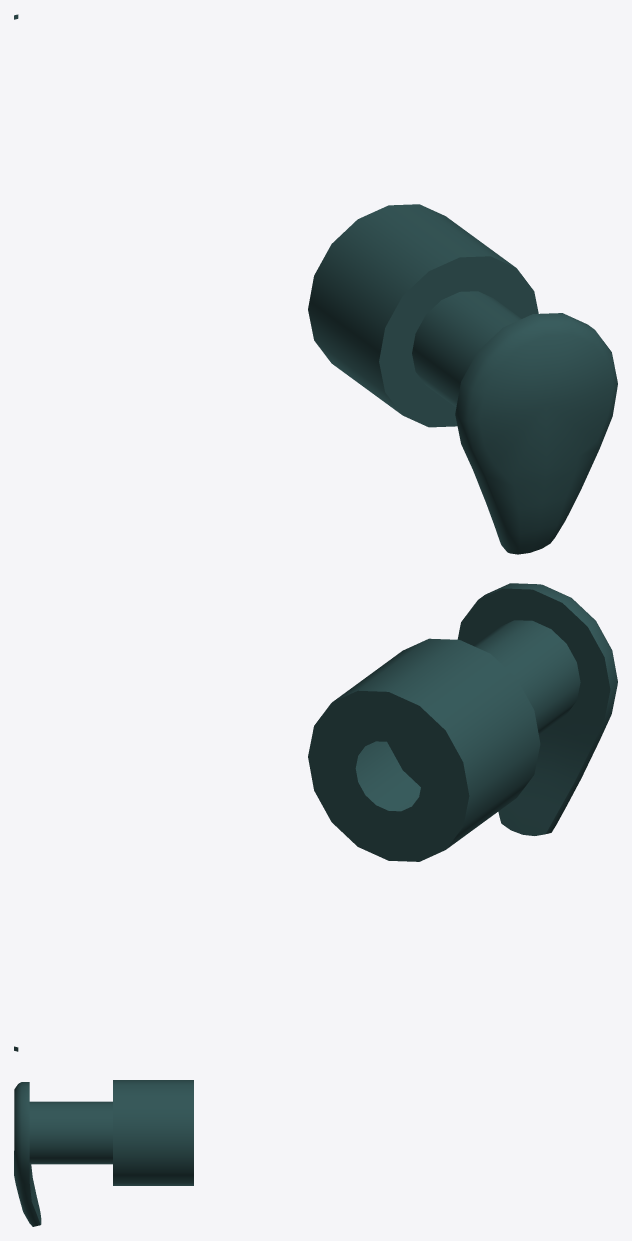
The model's file is MeshSoapBottle_22_0_GeomSubset_1.obj.
3 views of the same model, one above another, from view 1: azimuth 30°, elevation 25°; view 2: azimuth 150°, elevation 25°; view 3: azimuth 270°, elevation 25° (orthographic). The views are drawn at different scales.
Parts seen in each view (by area): view 1: MeshSoapBottle_22_0_GeomSubset_1; view 2: MeshSoapBottle_22_0_GeomSubset_1; view 3: MeshSoapBottle_22_0_GeomSubset_1.
Boxes of the visible parts, x1,y1,x2,y2 form: MeshSoapBottle_22_0_GeomSubset_1: (14,14,617,554); MeshSoapBottle_22_0_GeomSubset_1: (14,583,617,1051); MeshSoapBottle_22_0_GeomSubset_1: (14,1080,193,1226).
Bounding box in the file's own units: 0.0386 × 0.0557 × 0.2195.
